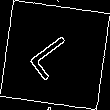L_NE: (25, 28, 85, 82)
